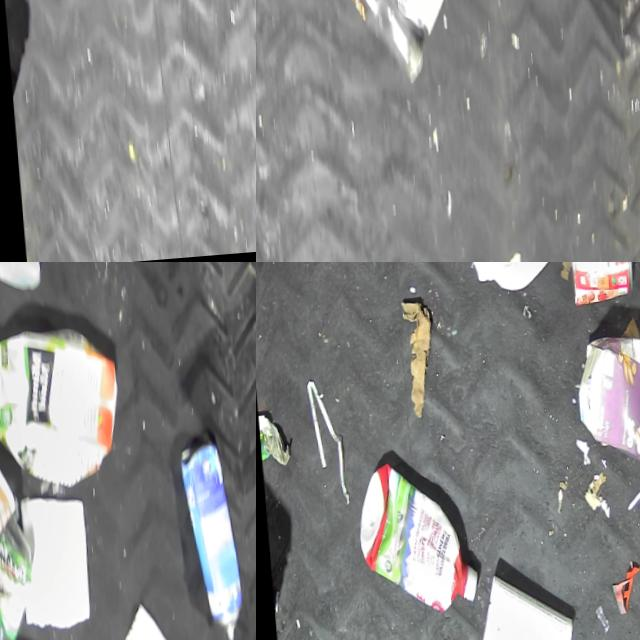can: (172, 447, 237, 640), (559, 262, 634, 324), (377, 0, 456, 45)
milk_jug: (455, 262, 585, 303)
non_white_jug: (0, 324, 121, 500)
plastic_bottle: (322, 0, 419, 95)
